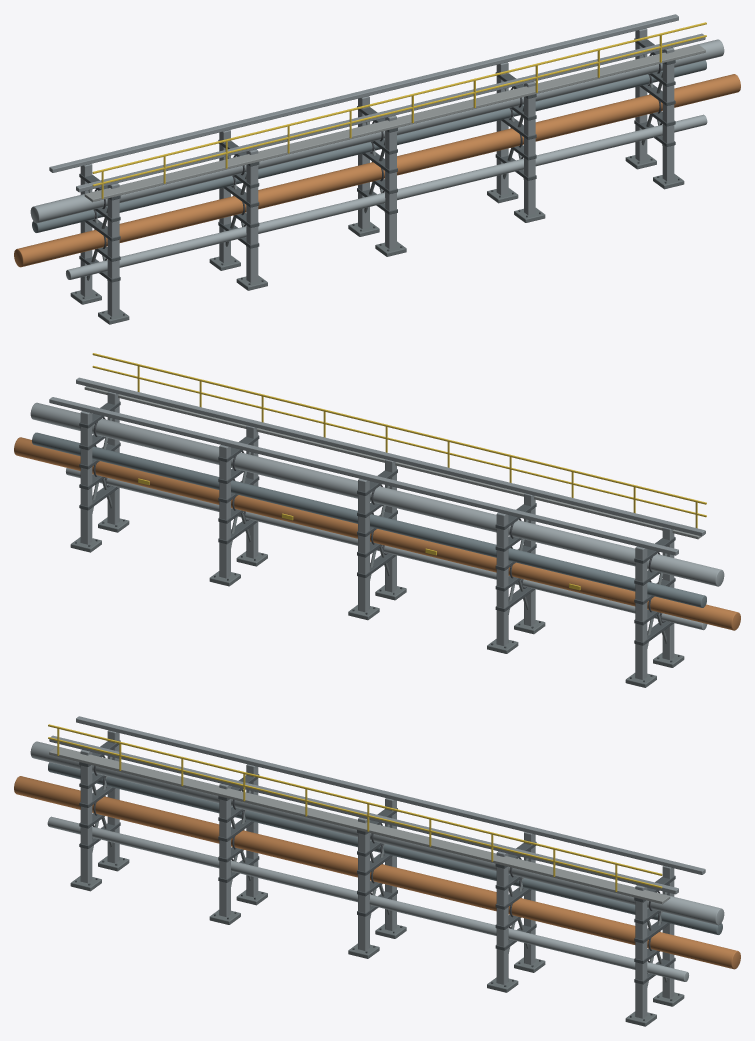
The model's file is pipe-rack.glb.
3 renders of one model, top to bottom at view 1: azimuth 30°, elevation 25°; view 2: azimuth 150°, elevation 25°; view 3: azimuth 330°, elevation 25°, orthographic.
Visible parts, largest first — view 1: PR_L2_TRUNK, PR_L1_TRUNK, PR_CABLE_TRAY, PR_L4_TRUNK, PR_L3_TRUNK, PR_TOP_BEAM_A, PR_TOP_BEAM_B, PR_SERVICE_RAIL_TOP, PR_SERVICE_RAIL_MID, PR_FRAME_4_POST_1, PR_FRAME_1_POST_1, PR_FRAME_0_POST_1 (+7 smaller); view 2: PR_L4_TRUNK, PR_L2_TRUNK, PR_L3_TRUNK, PR_TOP_BEAM_B, PR_TOP_BEAM_A, PR_L1_TRUNK, PR_CABLE_TRAY, PR_SERVICE_RAIL_TOP, PR_SERVICE_RAIL_MID, PR_FRAME_1_POST_0, PR_FRAME_4_POST_0, PR_FRAME_0_POST_0 (+7 smaller); view 3: PR_L2_TRUNK, PR_L1_TRUNK, PR_CABLE_TRAY, PR_L4_TRUNK, PR_L3_TRUNK, PR_TOP_BEAM_A, PR_TOP_BEAM_B, PR_SERVICE_RAIL_TOP, PR_SERVICE_RAIL_MID, PR_FRAME_0_POST_1, PR_FRAME_3_POST_1, PR_FRAME_4_POST_1 (+7 smaller).
Part boxes in pixels (bbox=[...]): PR_L2_TRUNK: bbox=[14, 74, 740, 267]; PR_L1_TRUNK: bbox=[66, 114, 707, 279]; PR_CABLE_TRAY: bbox=[84, 44, 705, 202]; PR_L4_TRUNK: bbox=[30, 39, 724, 223]; PR_L3_TRUNK: bbox=[32, 60, 706, 232]; PR_TOP_BEAM_A: bbox=[49, 14, 678, 172]; PR_TOP_BEAM_B: bbox=[76, 33, 705, 192]; PR_SERVICE_RAIL_TOP: bbox=[92, 22, 706, 173]; PR_SERVICE_RAIL_MID: bbox=[92, 35, 706, 186]; PR_FRAME_4_POST_1: bbox=[662, 47, 674, 181]; PR_FRAME_1_POST_1: bbox=[246, 149, 258, 282]; PR_FRAME_0_POST_1: bbox=[107, 183, 119, 316]; PR_L4_TRUNK: bbox=[30, 402, 724, 586]; PR_L2_TRUNK: bbox=[14, 437, 740, 630]; PR_L3_TRUNK: bbox=[32, 432, 706, 607]; PR_TOP_BEAM_B: bbox=[76, 377, 705, 536]; PR_TOP_BEAM_A: bbox=[49, 397, 678, 555]; PR_L1_TRUNK: bbox=[66, 468, 707, 630]; PR_CABLE_TRAY: bbox=[84, 386, 705, 539]; PR_SERVICE_RAIL_TOP: bbox=[92, 353, 706, 504]; PR_SERVICE_RAIL_MID: bbox=[92, 365, 706, 517]; PR_FRAME_1_POST_0: bbox=[496, 512, 508, 645]; PR_FRAME_4_POST_0: bbox=[80, 411, 92, 544]; PR_FRAME_0_POST_0: bbox=[635, 546, 647, 679]; PR_L2_TRUNK: bbox=[14, 776, 740, 969]; PR_L1_TRUNK: bbox=[47, 816, 688, 981]; PR_CABLE_TRAY: bbox=[49, 746, 670, 904]; PR_L4_TRUNK: bbox=[30, 741, 724, 925]; PR_L3_TRUNK: bbox=[48, 762, 722, 934]; PR_TOP_BEAM_A: bbox=[76, 716, 705, 874]; PR_TOP_BEAM_B: bbox=[49, 735, 678, 894]; PR_SERVICE_RAIL_TOP: bbox=[48, 724, 662, 875]; PR_SERVICE_RAIL_MID: bbox=[48, 737, 662, 888]; PR_FRAME_0_POST_1: bbox=[80, 749, 92, 883]; PR_FRAME_3_POST_1: bbox=[496, 851, 508, 984]; PR_FRAME_4_POST_1: bbox=[635, 885, 647, 1018].
Size of what is drawn, in the model's own units: 22 by 4.68 by 2.23.
